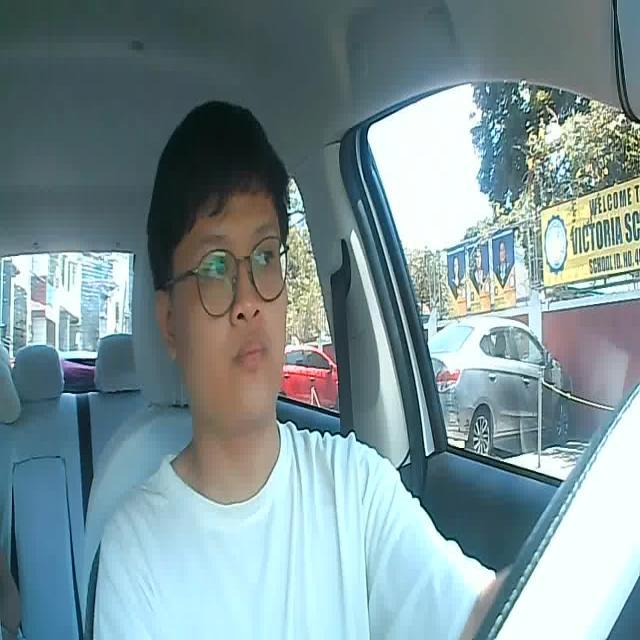Attentive: (151, 98, 297, 414)
Eye-Open: (201, 258, 234, 284), (255, 248, 278, 272)
Normal: (235, 339, 272, 374)
